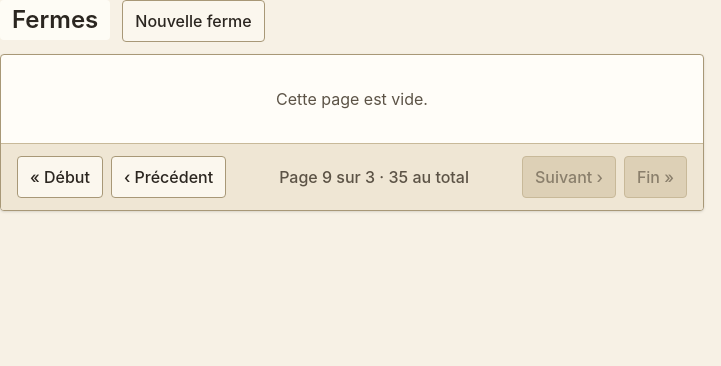
Test case: FarmsPage › says so when the page is beyond the end, and "previous" goes back to the last real page
Expected: the text "Cette page est vide." is shown, [276, 89, 428, 109]
Click the button "‹ Précédent" at [168, 177], box [111, 156, 226, 198]
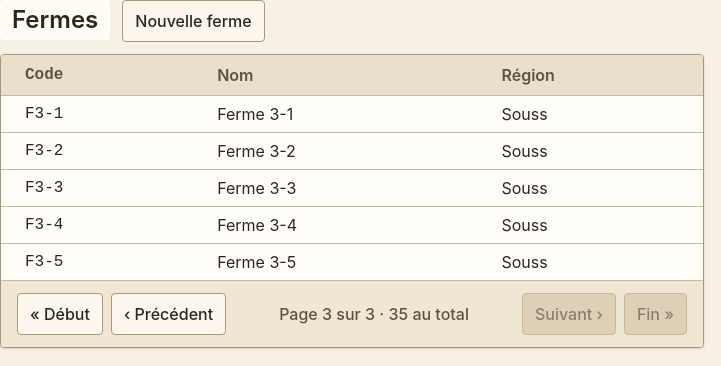
Expected: the text "F3-1" is shown, [1, 96, 193, 132]
